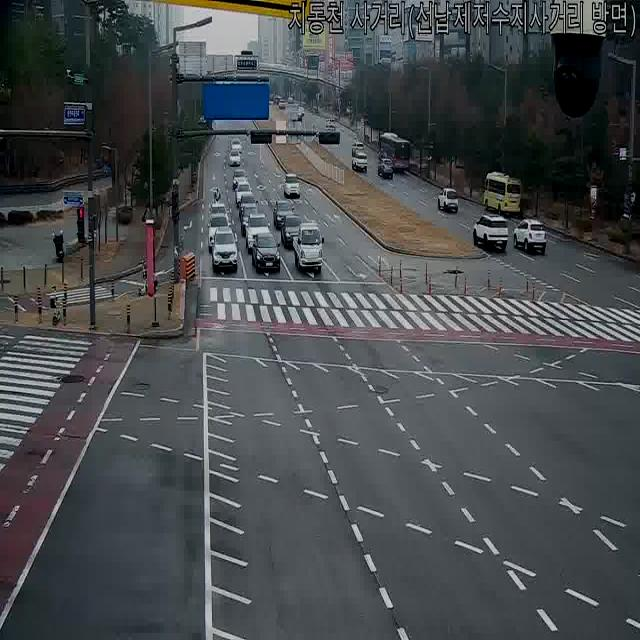Bus: (482, 173, 524, 215), (381, 134, 412, 172)
Car: (473, 213, 509, 252), (512, 217, 546, 255), (210, 228, 238, 274), (251, 233, 281, 274), (244, 213, 271, 252), (206, 214, 232, 251), (281, 214, 306, 249), (273, 199, 295, 229), (208, 201, 230, 231), (240, 207, 262, 235), (438, 188, 458, 214), (239, 193, 258, 220), (235, 180, 253, 208), (283, 173, 301, 199), (377, 158, 394, 180), (232, 168, 248, 190), (352, 151, 368, 173), (227, 148, 242, 167), (229, 138, 243, 156), (352, 141, 365, 157), (286, 93, 295, 105), (326, 118, 336, 128), (277, 98, 286, 109), (297, 106, 305, 117)
Motorcycle: (213, 185, 221, 208)
Truck: (294, 221, 324, 273)
